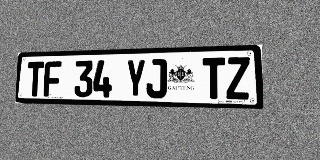3: (74, 60, 93, 97)
4: (93, 60, 112, 98)
F: (43, 61, 62, 97)
J: (146, 59, 167, 98)
T: (202, 57, 225, 99), (26, 61, 44, 97)
Y: (125, 59, 146, 98)
Z: (226, 57, 250, 100)
